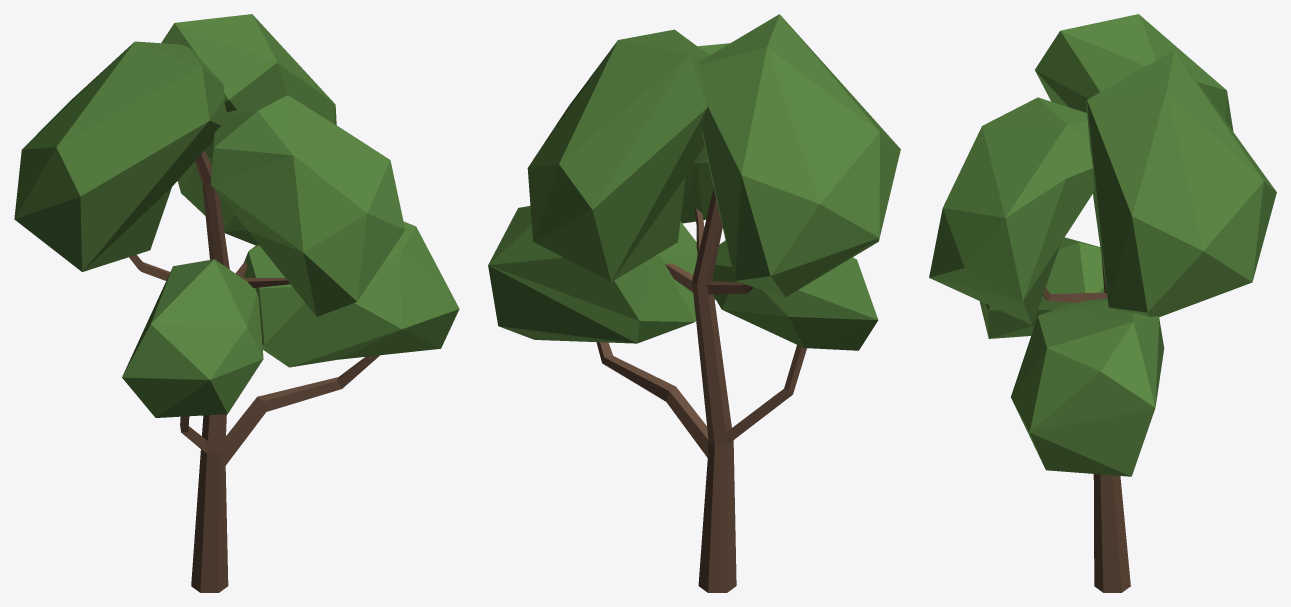
Rendered from tree6.fbx.
The picture shows the model from 3 angles, left to right: view 1: azimuth 30°, elevation 25°; view 2: azimuth 150°, elevation 25°; view 3: azimuth 270°, elevation 25°; orthographic projection. The views are drawn at different scales.
Visible parts, largest first — view 1: tree6; view 2: tree6; view 3: tree6.
Part boxes in pixels (x1=…): tree6: x1=14, y1=14, x2=459, y2=592; tree6: x1=488, y1=14, x2=900, y2=592; tree6: x1=929, y1=14, x2=1276, y2=592.
Size of the model in its own units: 3.33 by 4.55 by 2.65.
